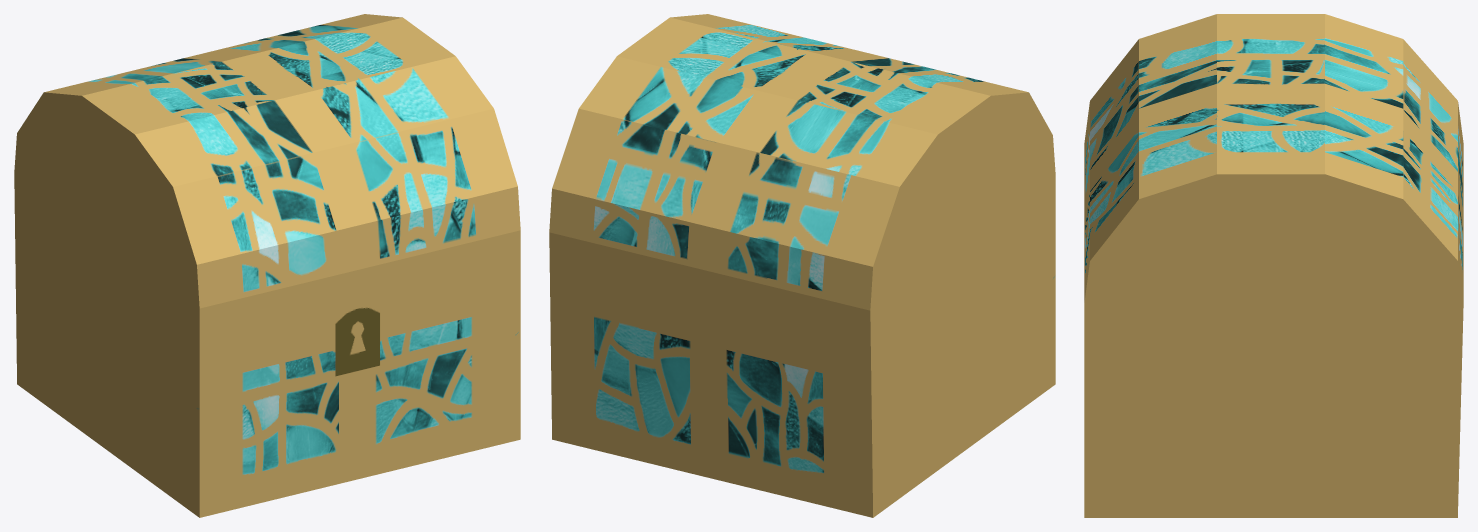
The model's file is chest03.glb.
3 renders of one model, left to right at view 1: azimuth 30°, elevation 25°; view 2: azimuth 150°, elevation 25°; view 3: azimuth 270°, elevation 25°, orthographic. The views are drawn at different scales.
Parts seen in each view (by area): view 1: chest03; view 2: chest03; view 3: chest03.
Boxes of the visible parts, x1,y1,x2,y2 form: chest03: (14,14,520,517); chest03: (549,14,1055,517); chest03: (1084,14,1463,517).
Bounding box in the file's own units: 1 × 1 × 1.
Materials: 1 (1 with a texture image).
